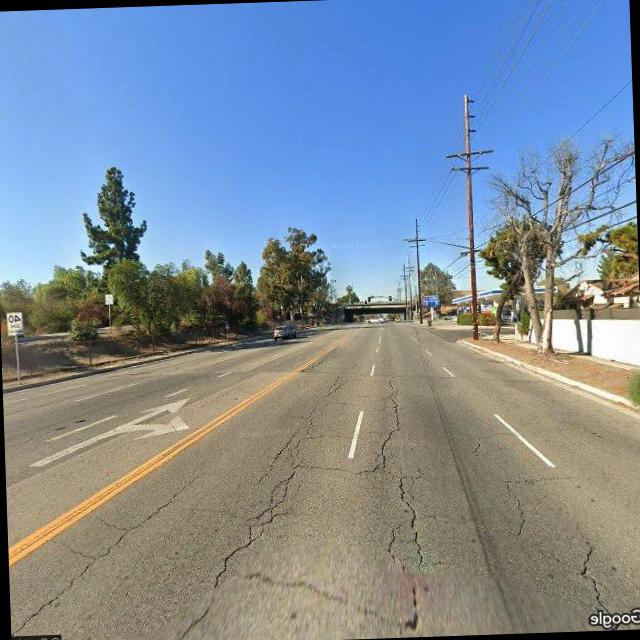crack: (198, 365, 444, 629)
pothole: (9, 462, 213, 635), (570, 518, 617, 613), (504, 476, 528, 536)
